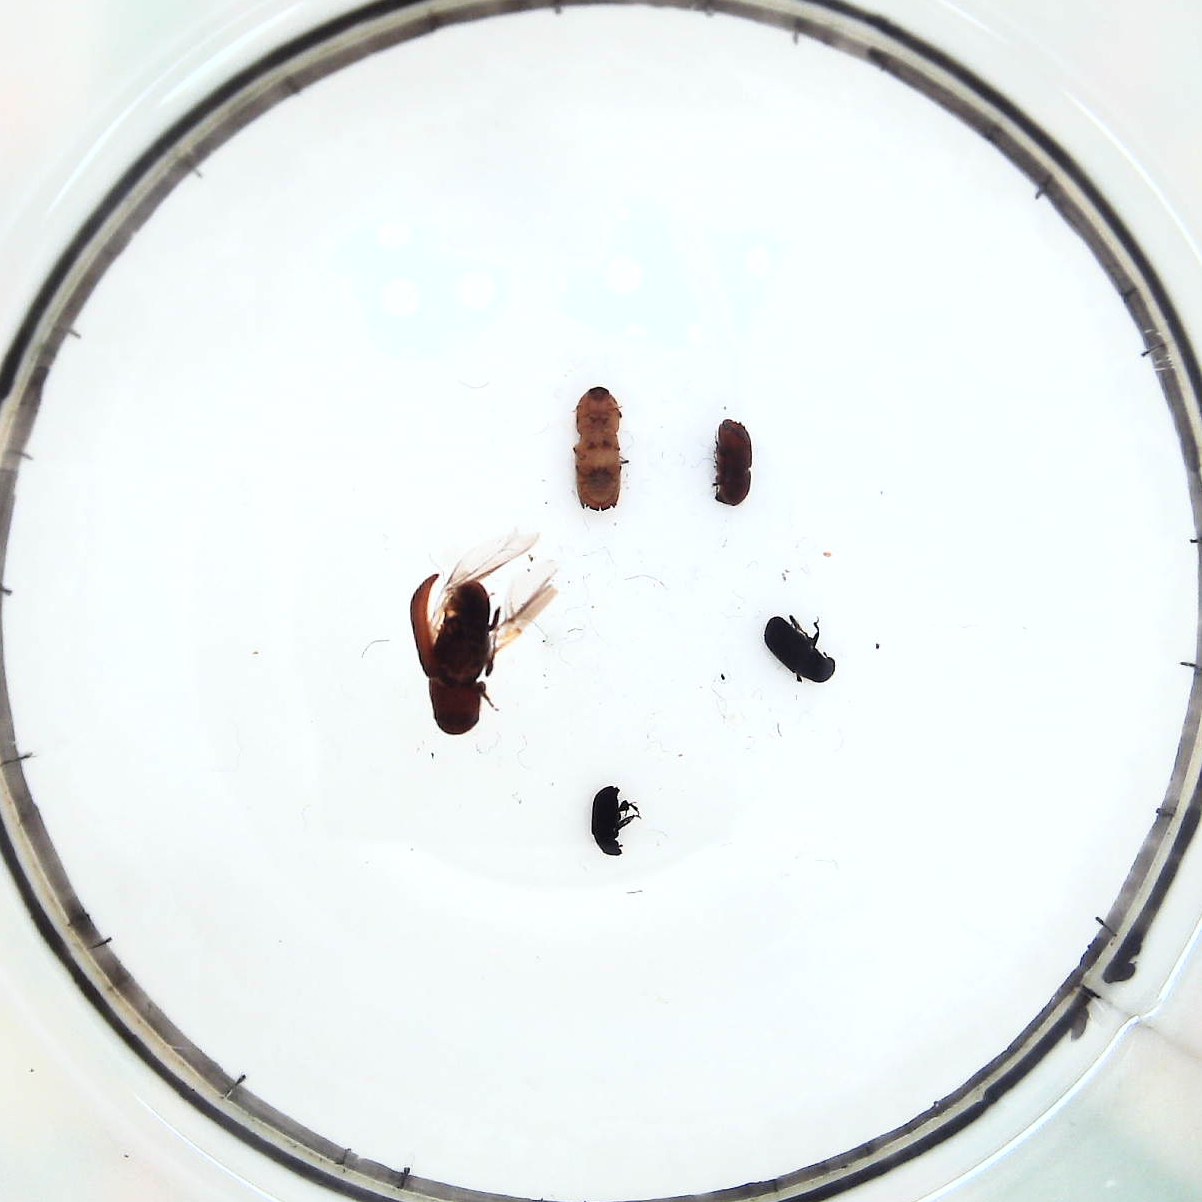Boerner: (570, 382, 631, 518)
Leconte: (412, 557, 500, 739)
Linnaeus: (712, 418, 754, 505)
armandi: (764, 614, 835, 684)
coleoptera: (590, 782, 636, 853)
